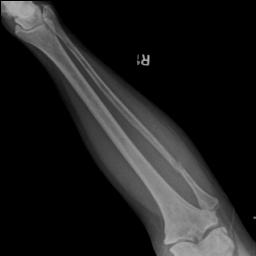cancer: (148, 130, 191, 182)
